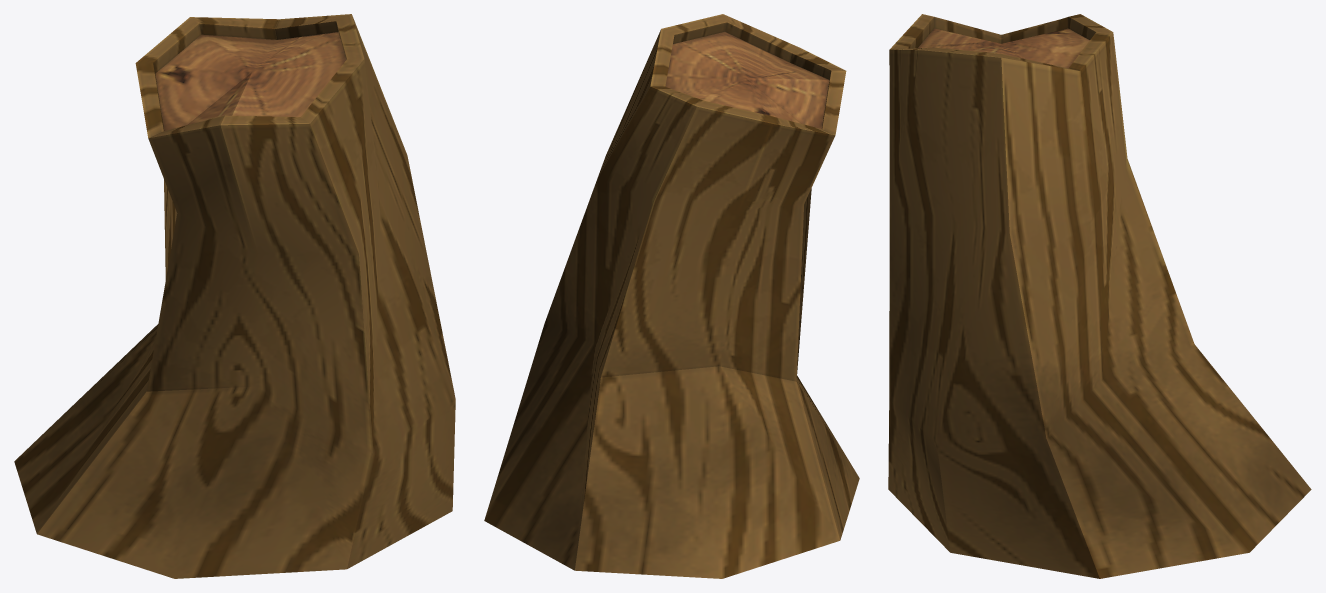
File: TreeStamp2.fbx
3 renders of one model, left to right at view 1: azimuth 30°, elevation 25°; view 2: azimuth 150°, elevation 25°; view 3: azimuth 270°, elevation 25°, orthographic. The views are drawn at different scales.
Visible parts, largest first — view 1: TreeStamp2; view 2: TreeStamp2; view 3: TreeStamp2.
Boxes of the visible parts, bbox=[...] form: TreeStamp2: bbox=[14, 14, 455, 578]; TreeStamp2: bbox=[484, 14, 859, 578]; TreeStamp2: bbox=[888, 14, 1311, 578].
Size of the model in its own units: 85.07 by 102 by 85.07.
